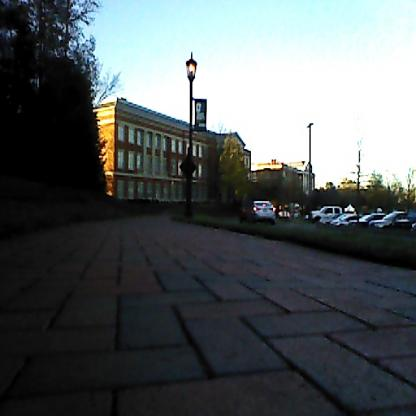Edge: (177, 222, 416, 294), (1, 223, 116, 270)
Sidewalk: (4, 220, 416, 416)
